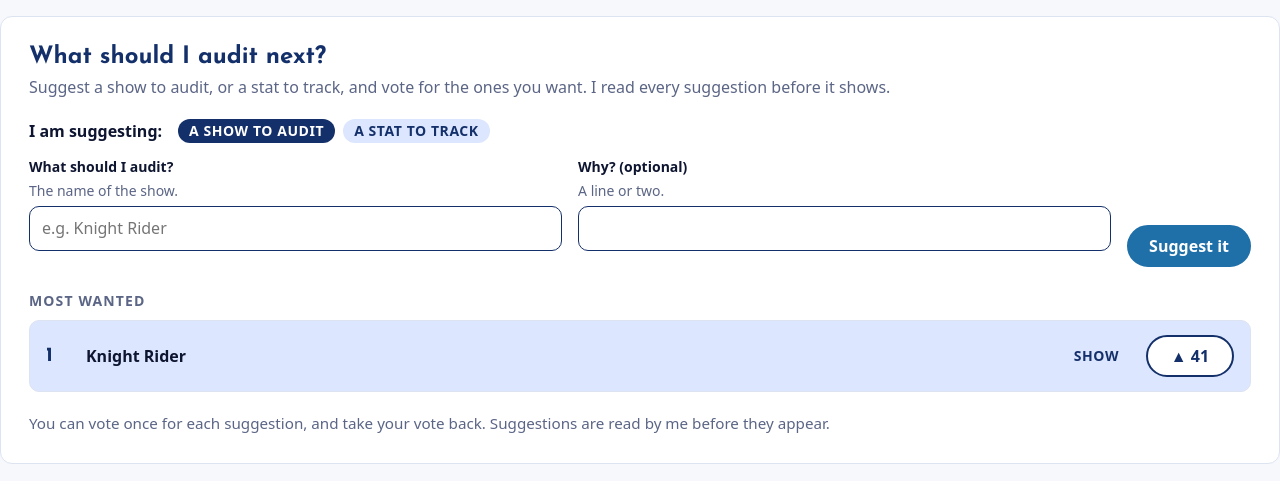
signed in › votes: the count and the button change at once, and the vote is saved; clicking again takes it back
The width and height of the screenshot is (1280, 481).
Click the button named "Vote for Knight Rider".
click(1190, 356)  # box [1146,335,1234,377]
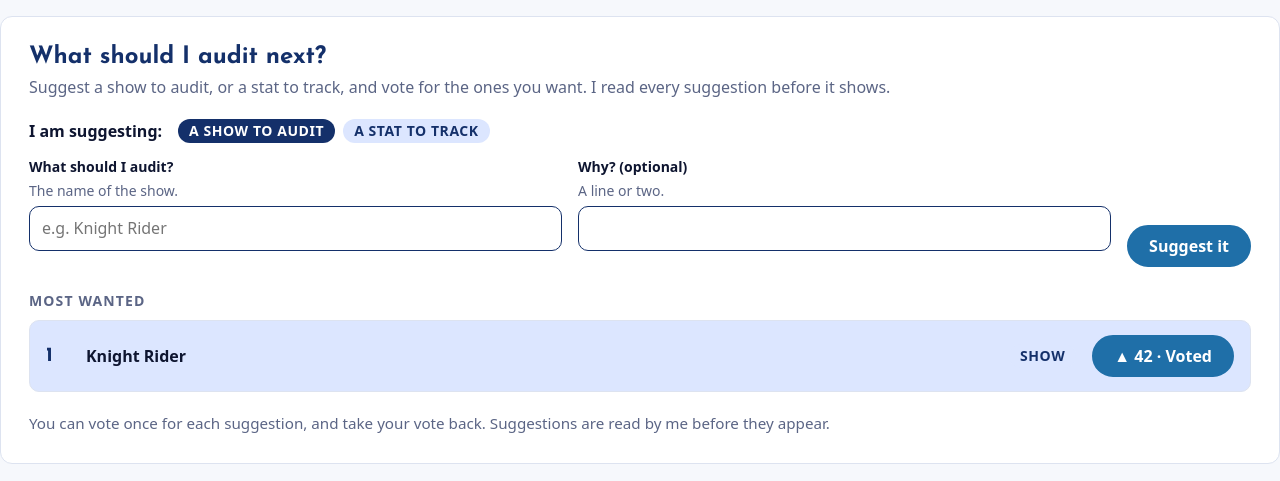
Expected: the button with aria-label "Take back your vote for Knight Rider. 42 votes" reads "▲ 42 · Voted"
Click the button with aria-label "Take back your vote for Knight Rider. 42 votes".
click(1163, 356)  # box [1092,335,1234,377]
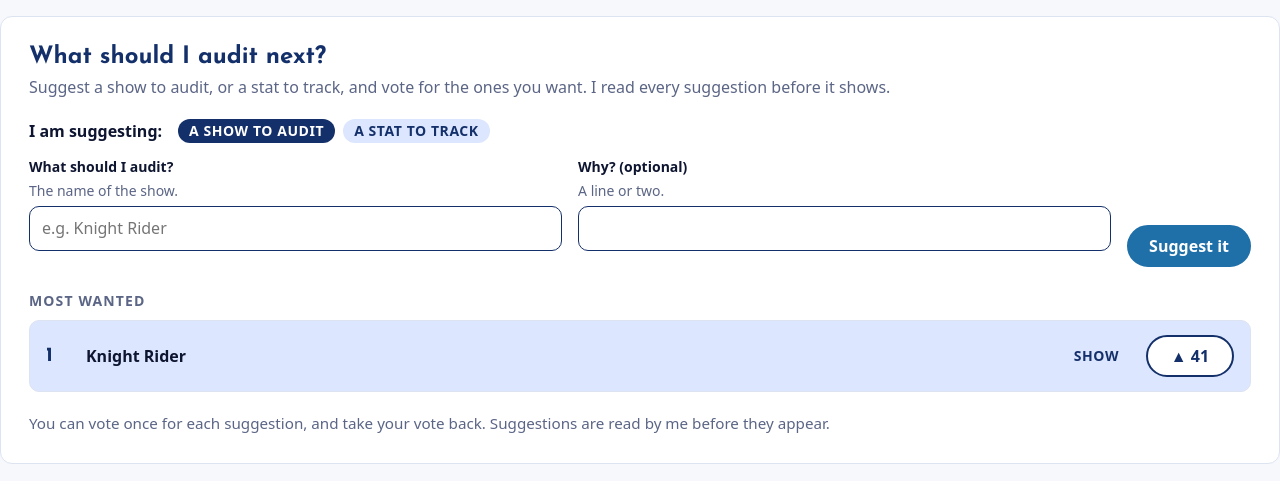
Expected: the button named "Vote for Knight Rider. 41 votes" is shown, [1146,335,1234,377]
